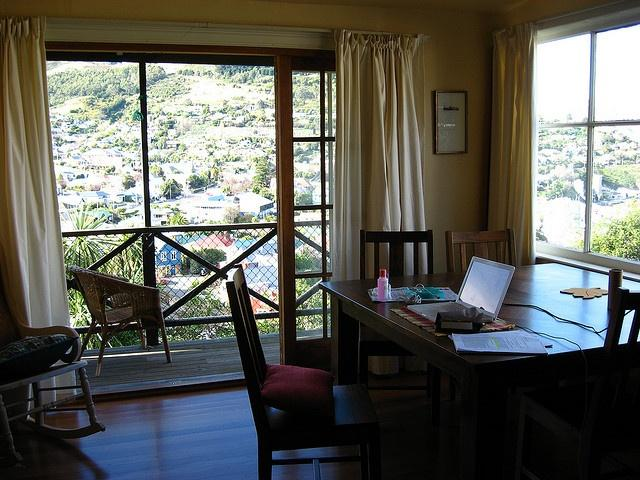Kursi: (225, 264, 381, 479)
Meja: (317, 260, 639, 387)
